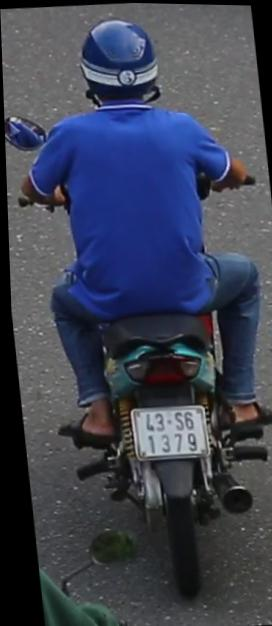LP: (122, 396, 210, 464)
helmet: (73, 5, 166, 125)
